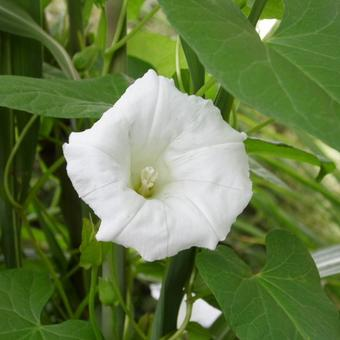haagwinde: (57, 62, 258, 270), (154, 1, 340, 152), (187, 231, 338, 340)
